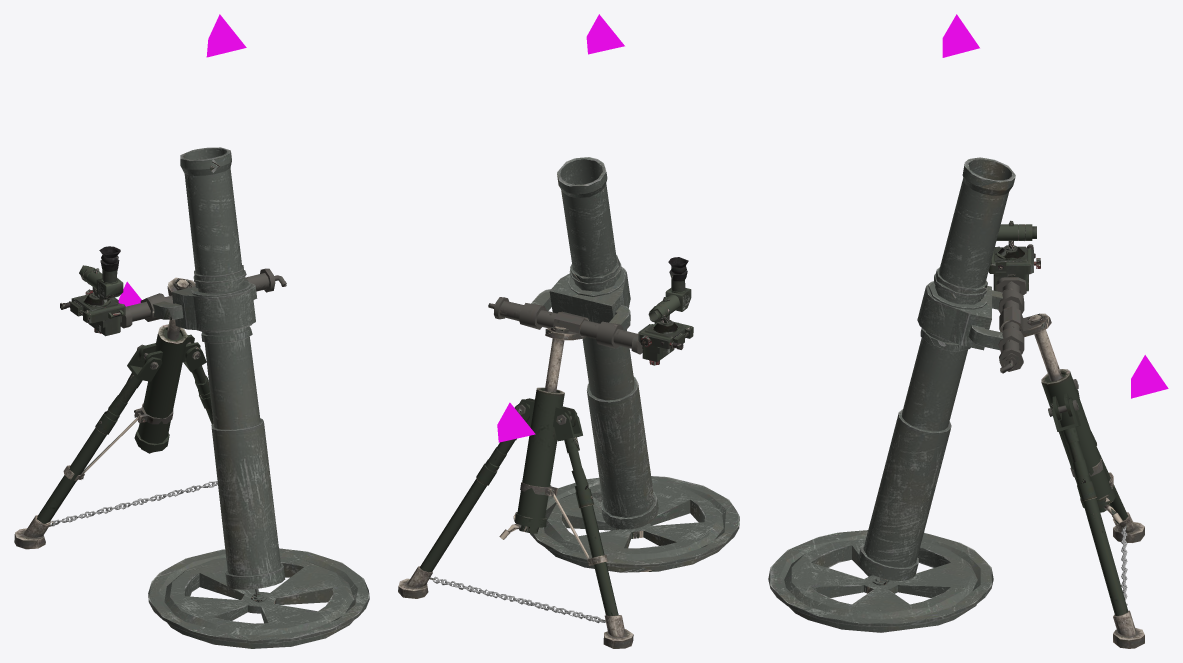
Rendered from prop_mortar.glb.
3 views of the same model, side by side, from view 1: azimuth 30°, elevation 25°; view 2: azimuth 150°, elevation 25°; view 3: azimuth 270°, elevation 25° (orthographic). The views are drawn at different scales.
Visible parts, largest first — view 1: Body_1, _Top, Body_2; view 2: Body_1, Body_2, _Front, _Top; view 3: Body_1, _Top, _Front.
Boxes of the visible parts, x1,y1,x2,y2 form: Body_1: (14, 147, 369, 648); _Top: (206, 14, 246, 57); Body_2: (50, 481, 217, 526); Body_1: (398, 157, 739, 648); Body_2: (432, 576, 605, 623); _Front: (497, 402, 535, 442); _Top: (586, 14, 624, 54); Body_1: (768, 157, 1144, 648); _Top: (942, 14, 979, 57); _Front: (1131, 355, 1168, 398).
Bounding box in the file's own units: 1.82 × 4.04 × 2.55.
Materials: 3 (2 with a texture image).
